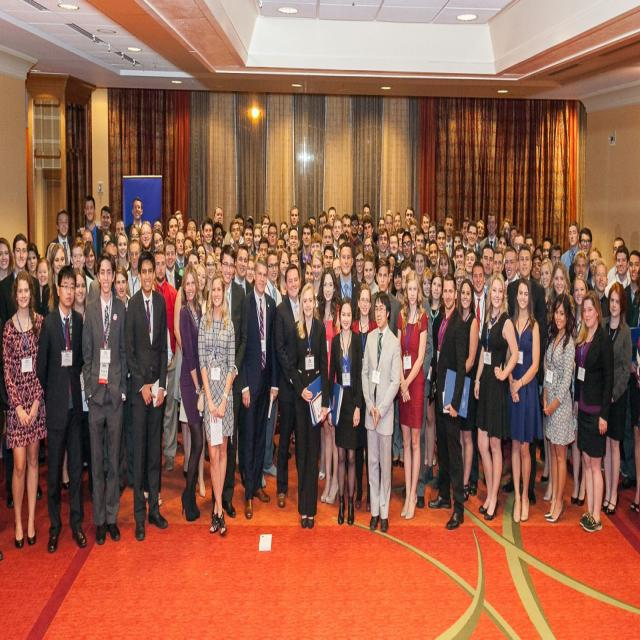body: (0, 192, 640, 284), (34, 262, 91, 553), (80, 252, 129, 546), (500, 242, 550, 509), (125, 249, 169, 545), (204, 241, 248, 519), (474, 269, 520, 523), (2, 268, 44, 546), (1, 231, 43, 509), (288, 282, 331, 534), (197, 271, 237, 538), (240, 255, 280, 520), (428, 273, 468, 532), (360, 289, 402, 533), (572, 290, 614, 534), (326, 296, 364, 526), (396, 270, 429, 524), (506, 275, 539, 526), (542, 291, 577, 527), (600, 281, 634, 516), (274, 260, 302, 508), (178, 264, 204, 523), (173, 248, 201, 480), (314, 267, 341, 505), (152, 249, 179, 472), (352, 283, 378, 514), (455, 278, 480, 504), (260, 247, 283, 487), (468, 261, 490, 496), (568, 274, 590, 507), (113, 263, 134, 497), (423, 272, 446, 485), (163, 237, 184, 450), (543, 258, 577, 372), (420, 266, 438, 468), (390, 262, 406, 469), (369, 257, 402, 337), (630, 265, 640, 517), (336, 240, 362, 318), (41, 242, 67, 318), (78, 194, 104, 263), (589, 257, 611, 338), (47, 209, 75, 268), (68, 237, 94, 295), (539, 256, 555, 348), (604, 246, 632, 298), (569, 227, 593, 286), (623, 249, 640, 326), (362, 254, 381, 322), (569, 249, 594, 299), (606, 236, 630, 285), (478, 208, 499, 258), (560, 220, 580, 272), (126, 238, 142, 298), (124, 196, 144, 242), (275, 246, 291, 301), (112, 231, 132, 274), (36, 256, 50, 316), (298, 218, 313, 272), (504, 245, 520, 294), (480, 244, 495, 295), (586, 246, 602, 292), (0, 236, 15, 283), (288, 204, 303, 251), (98, 205, 116, 244), (196, 262, 208, 316), (24, 241, 41, 279), (399, 259, 416, 293), (453, 266, 467, 305), (437, 248, 453, 282), (414, 247, 428, 285), (463, 247, 478, 282), (530, 254, 544, 287), (492, 246, 504, 274), (454, 244, 466, 271), (0, 551, 4, 562)
